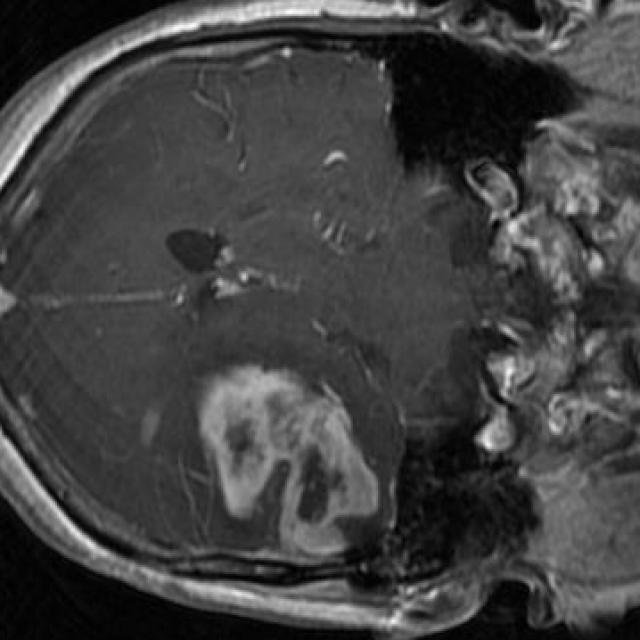glioma: (200, 367, 380, 558)
